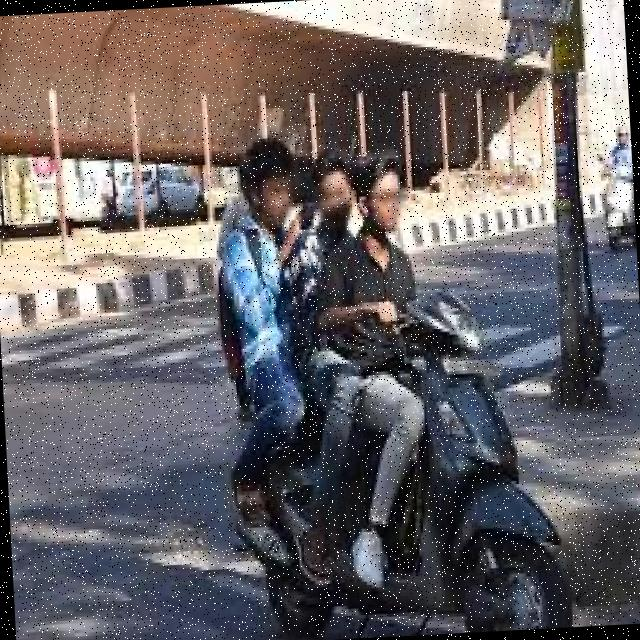No helmet: (350, 147, 417, 242)
Triple riding: (201, 135, 445, 510)
